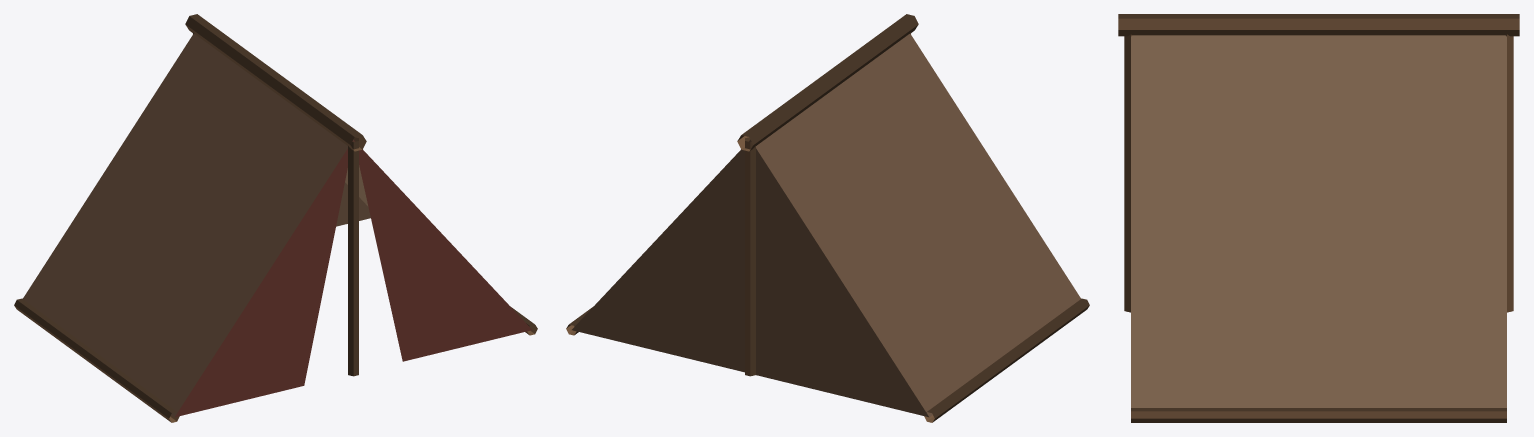
3 views of the same model, side by side, from view 1: azimuth 30°, elevation 25°; view 2: azimuth 150°, elevation 25°; view 3: azimuth 270°, elevation 25° (orthographic). The views are drawn at different scales.
Parts seen in each view (by area): view 1: e4c2d6512b8a3efd4be906b909fea2194b5a5d25ab9162477ca4b21d16f6; view 2: e4c2d6512b8a3efd4be906b909fea2194b5a5d25ab9162477ca4b21d16f6; view 3: e4c2d6512b8a3efd4be906b909fea2194b5a5d25ab9162477ca4b21d16f6.
Part boxes in pixels (box(x1,y1,x2,y2)): e4c2d6512b8a3efd4be906b909fea2194b5a5d25ab9162477ca4b21d16f6: box(14, 14, 537, 422); e4c2d6512b8a3efd4be906b909fea2194b5a5d25ab9162477ca4b21d16f6: box(566, 14, 1089, 422); e4c2d6512b8a3efd4be906b909fea2194b5a5d25ab9162477ca4b21d16f6: box(1118, 14, 1519, 422).
Size of the model in its own units: 4.12 by 2.63 by 3.2.
2 materials, 1 textured.
